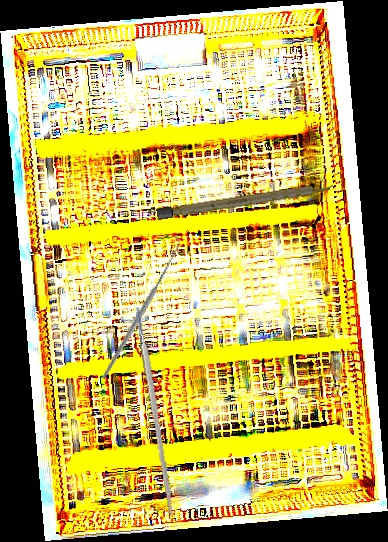Hook Surgical: (58, 234, 222, 381)
Scalpel Handle: (133, 306, 177, 517), (156, 181, 334, 220)
